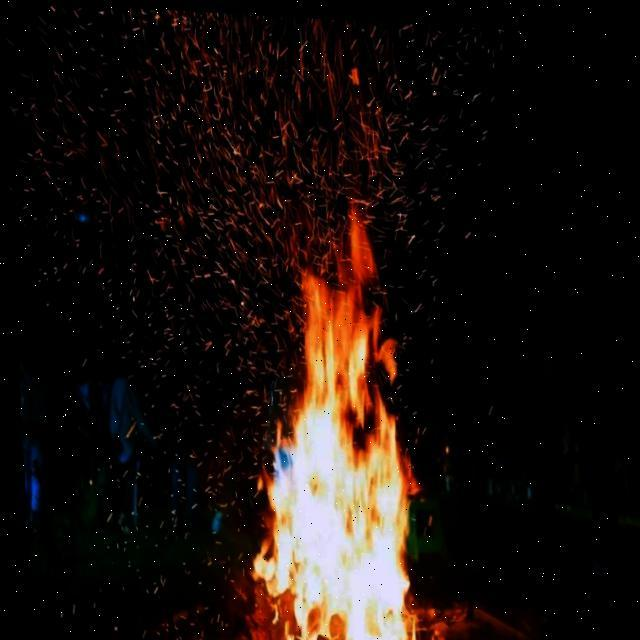Fire: (221, 200, 446, 639)
